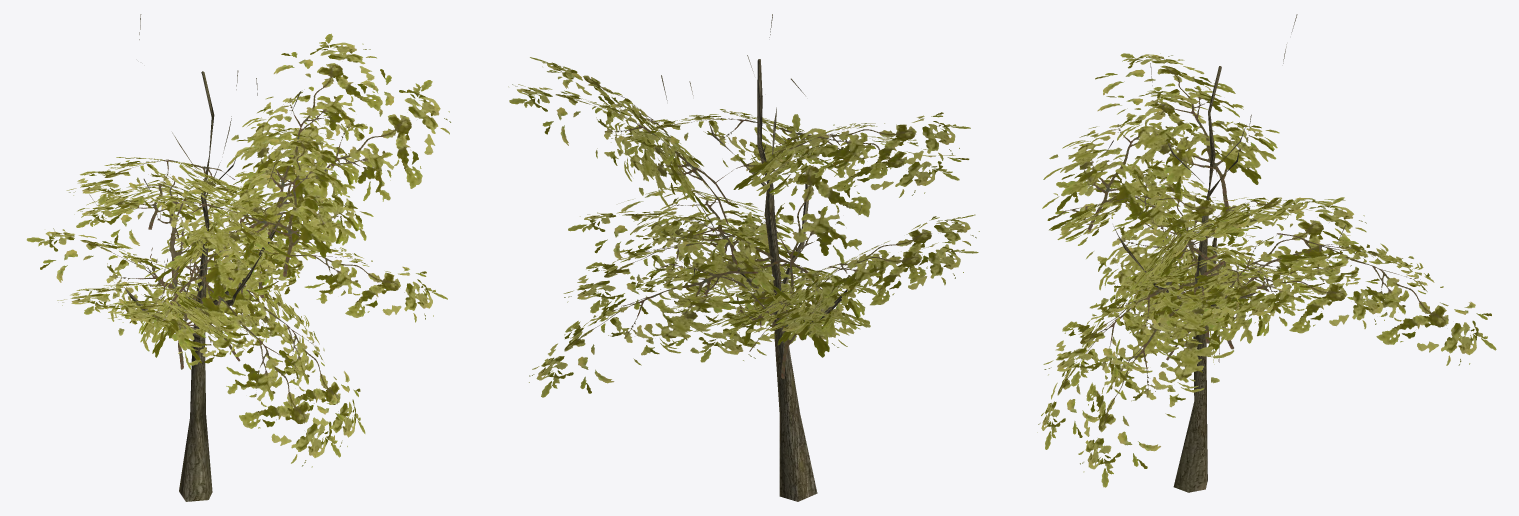
3 renders of one model, left to right at view 1: azimuth 30°, elevation 25°; view 2: azimuth 150°, elevation 25°; view 3: azimuth 270°, elevation 25°, orthographic. The views are drawn at different scales.
Visible parts, largest first — view 1: Treemedium; view 2: Treemedium; view 3: Treemedium.
Part boxes in pixels (x1,y1,x2,y2): Treemedium: (26,14,450,501); Treemedium: (508,14,979,501); Treemedium: (1037,14,1496,492).
Size of the model in its own units: 9.3 by 9.55 by 8.88.
1 material, 1 textured.
